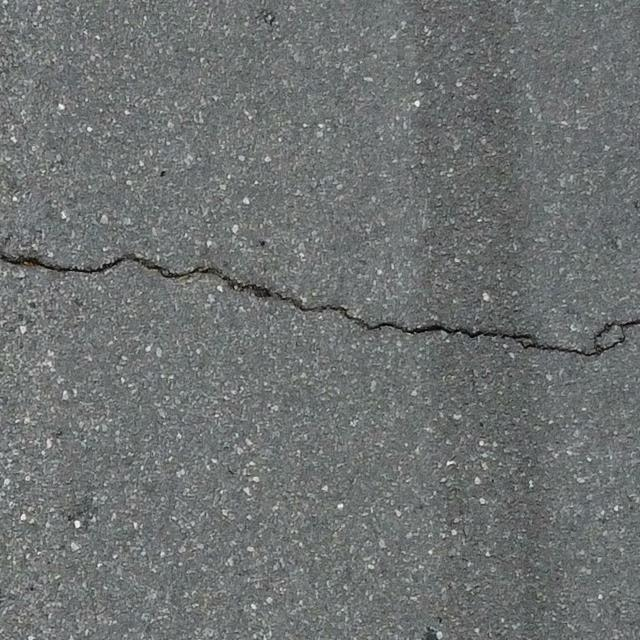TransverseCrack: (3, 253, 640, 361)
